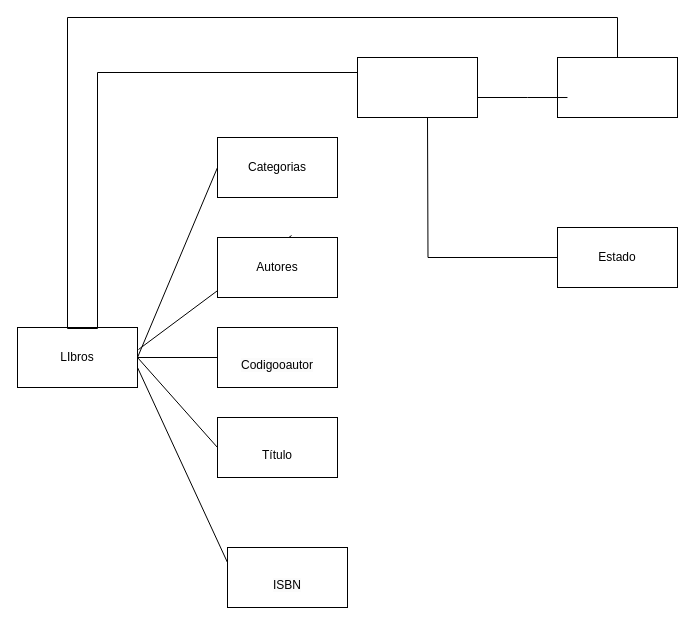
The diagram is 695 pixels wide and 625 high, and some of its shapes have lost their labels. The centre of each missing label's shape, as x and y in pixels:
"Prestamos activos" goes at point 417,87.
"Usuarios" goes at point 617,87.
